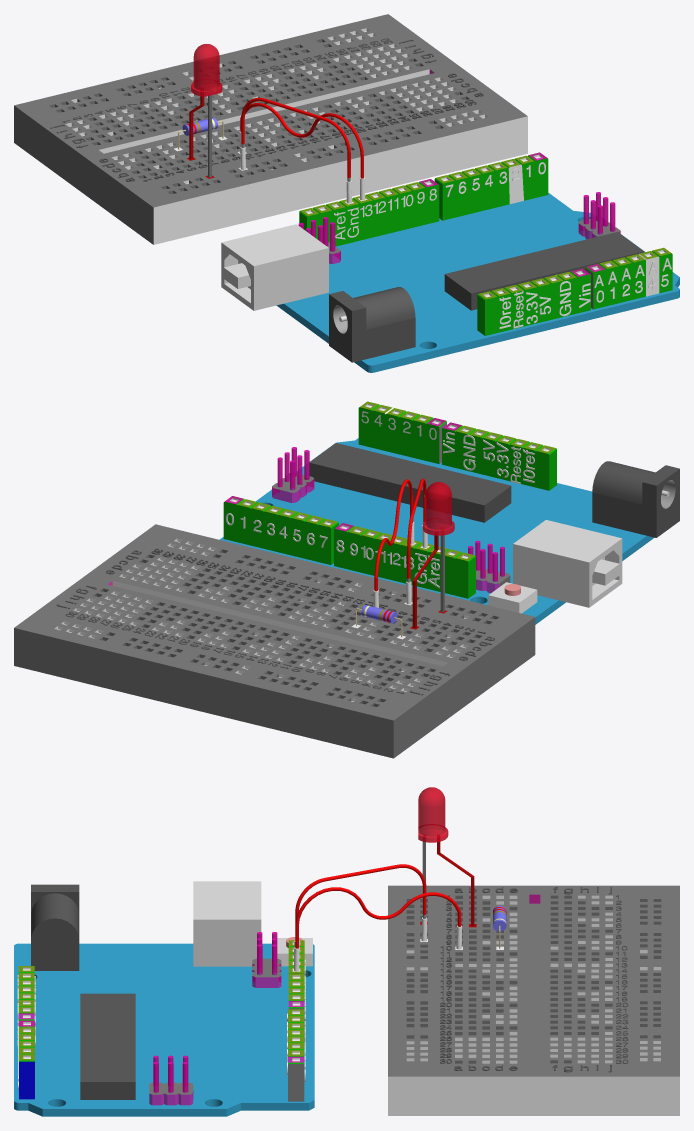
The picture shows the model from 3 angles, top to bottom: view 1: azimuth 30°, elevation 25°; view 2: azimuth 150°, elevation 25°; view 3: azimuth 270°, elevation 25°; orthographic projection. The views are drawn at different scales.
Visible parts, largest first — view 1: Blinking+Light; view 2: Blinking+Light; view 3: Blinking+Light.
Boxes of the visible parts, bbox=[...] form: Blinking+Light: bbox=[14, 14, 679, 372]; Blinking+Light: bbox=[14, 401, 679, 758]; Blinking+Light: bbox=[14, 787, 679, 1116].
Bounding box in the file's own units: 31.37 × 13.9 × 46.2.
